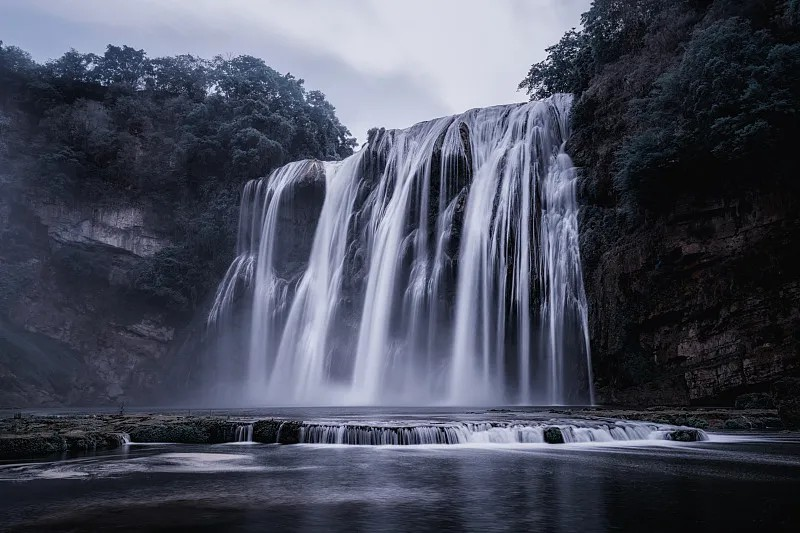Huangguoshu: (203, 92, 596, 406)
